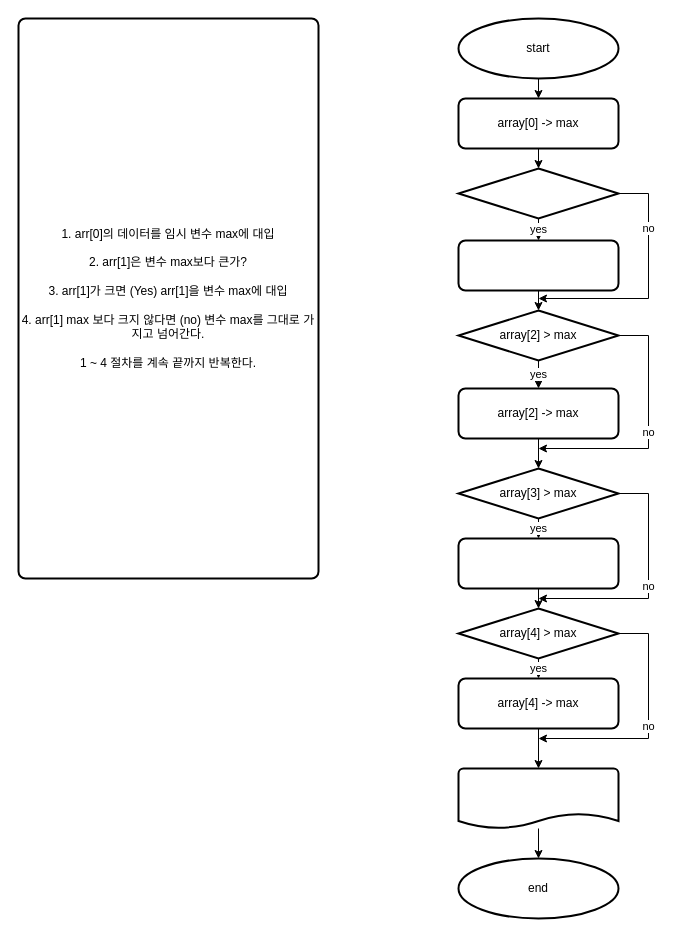
Some shapes in this 674 by 936 pixel diagram are drawn without their labels. Each missing label, with the box of its shape:
array[1] -> max: (457, 239, 619, 291)
array[1] > max: (457, 167, 619, 219)
array[3] -> max: (457, 537, 619, 589)
max: (457, 767, 619, 829)
